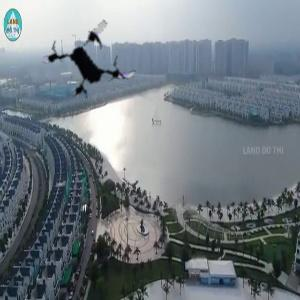drone: (45, 11, 142, 108)
